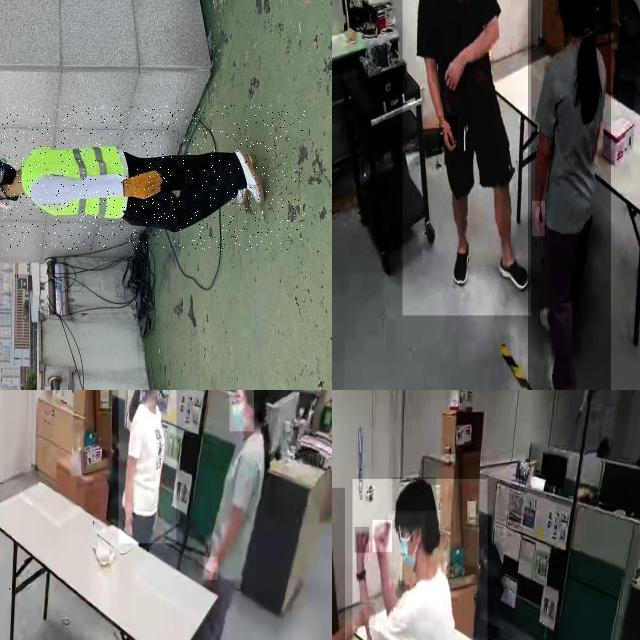boots: (230, 144, 270, 210)
face_mask: (388, 514, 426, 584), (229, 390, 254, 431), (155, 390, 171, 404)
hand_noglove: (442, 55, 467, 91), (439, 115, 458, 154), (372, 520, 392, 552), (352, 602, 376, 626), (532, 201, 546, 237), (354, 527, 370, 553), (204, 556, 218, 580), (124, 508, 134, 535)
head_nohelmet: (392, 477, 437, 512)
person: (0, 105, 305, 250), (402, 0, 531, 316), (528, 0, 611, 390), (187, 390, 275, 640), (352, 479, 487, 640), (118, 390, 177, 544)
shoes: (495, 252, 529, 294), (449, 232, 473, 286)
vest: (17, 144, 131, 222)
